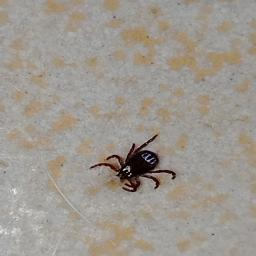Rhipicephalus sanguineus: (88, 133, 176, 192)
